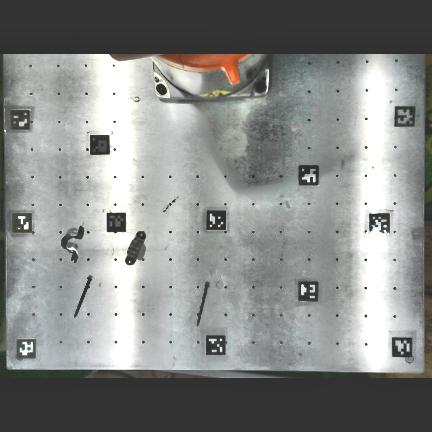clamp: (61, 226, 84, 263), (126, 231, 146, 265)
golden_screw: (74, 277, 93, 318), (197, 284, 209, 327)
marker: (395, 106, 415, 127), (370, 214, 390, 234), (299, 166, 319, 185), (207, 210, 226, 230), (13, 213, 32, 233), (206, 336, 225, 355), (393, 338, 412, 357), (107, 213, 126, 232), (299, 282, 318, 301), (90, 135, 109, 154), (11, 111, 30, 130), (17, 340, 36, 358)
